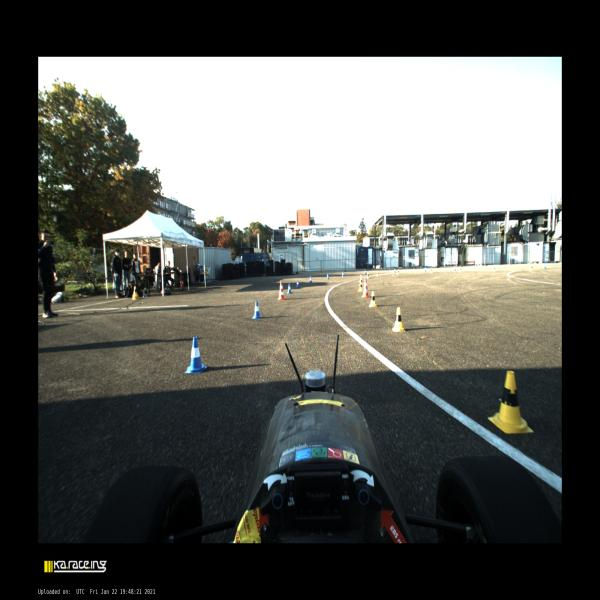blue_cone: (185, 337, 207, 373), (252, 301, 262, 319), (287, 283, 292, 293), (296, 279, 300, 288), (309, 276, 313, 283), (327, 273, 329, 280), (342, 271, 344, 277), (364, 269, 366, 275), (394, 268, 396, 274), (424, 266, 426, 272), (544, 263, 546, 269), (454, 267, 456, 271)
large_orange_cone: (361, 278, 370, 298), (278, 280, 285, 300)
yellow_cone: (488, 371, 534, 433), (392, 307, 405, 332), (368, 291, 377, 307), (358, 282, 363, 292), (359, 278, 363, 285), (530, 265, 534, 271), (492, 266, 496, 272), (360, 274, 362, 282), (459, 267, 462, 272), (367, 272, 369, 279), (430, 267, 432, 273), (398, 269, 400, 275), (377, 271, 379, 277)
